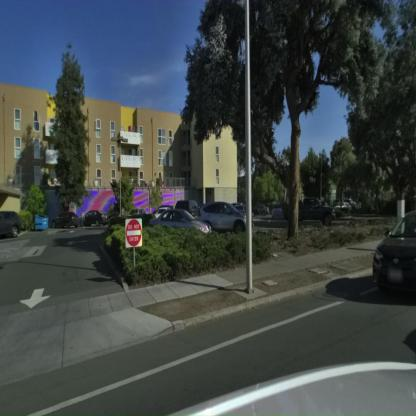car: (372, 209, 416, 298), (148, 208, 212, 234), (199, 202, 247, 232), (295, 197, 337, 227), (0, 210, 21, 240), (83, 210, 110, 227), (53, 212, 80, 228)
